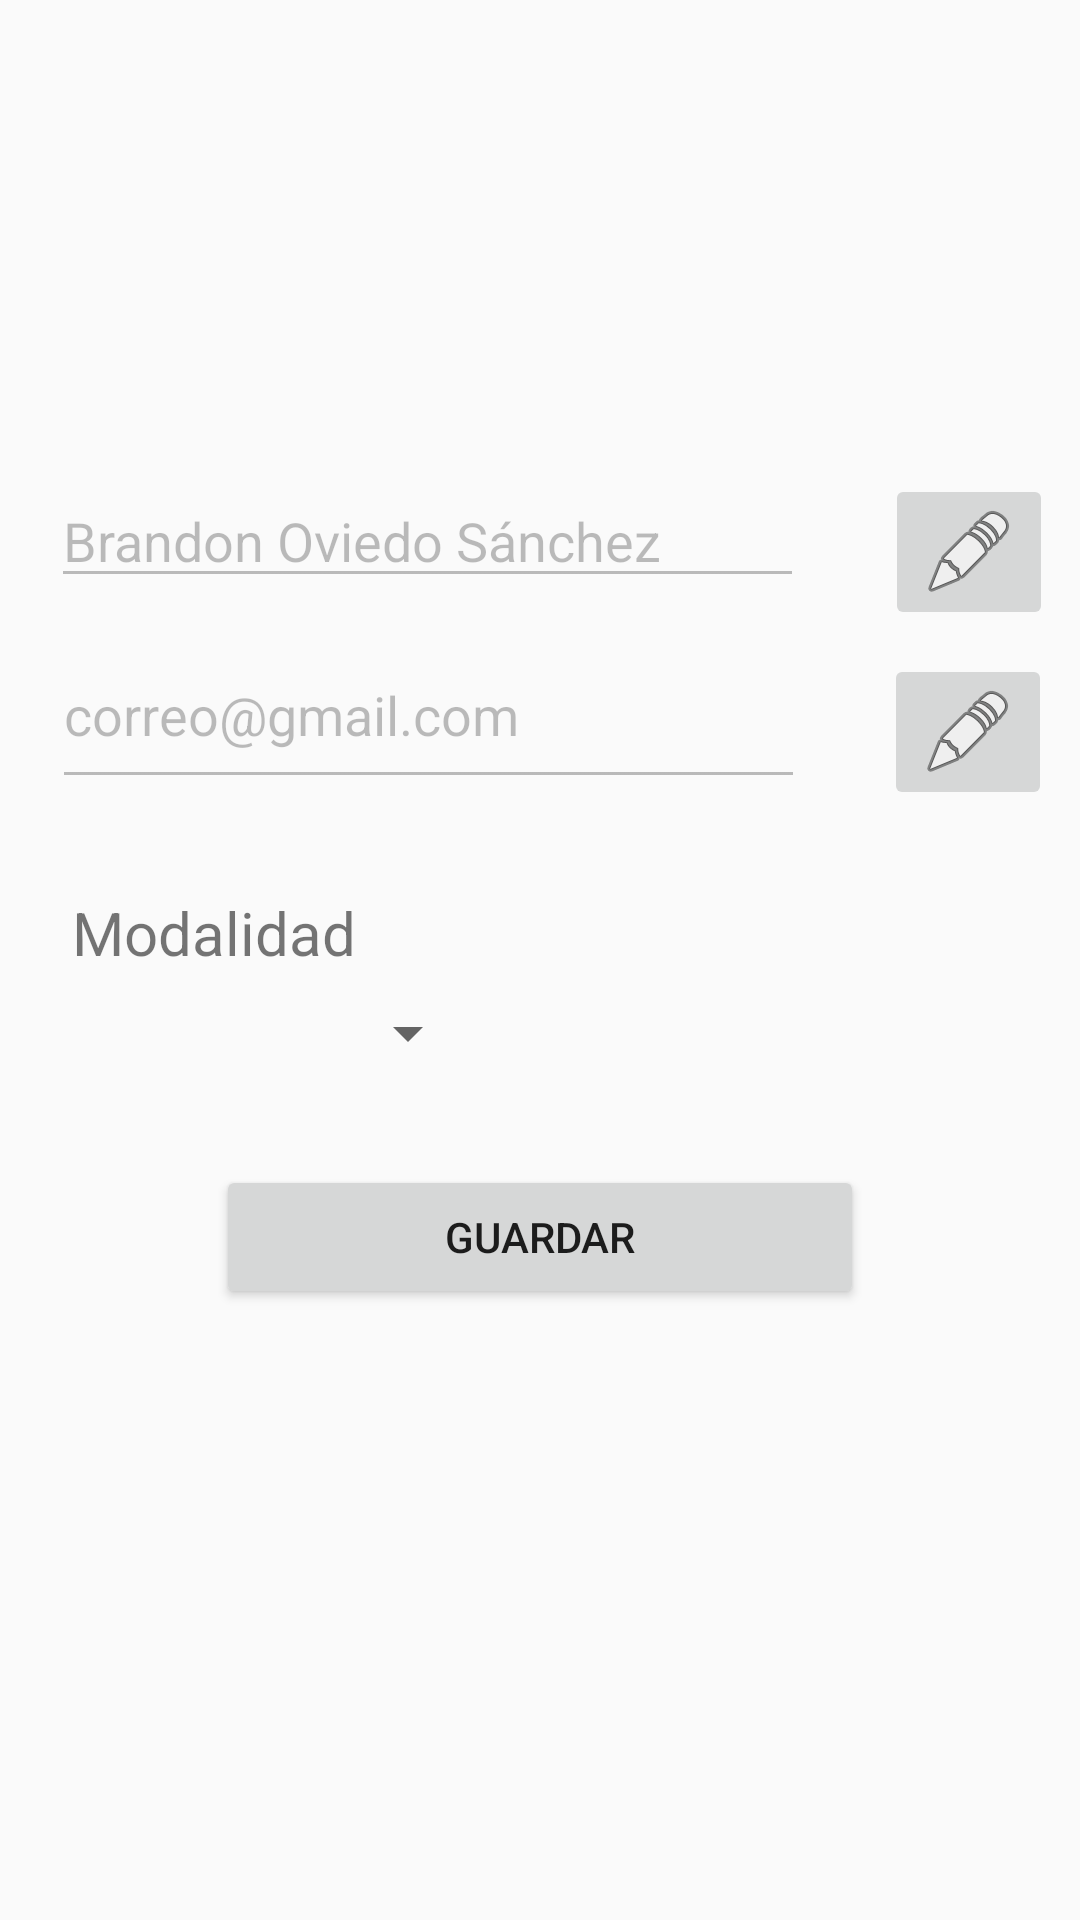

Point at icon controls on the screen. Image size 1080px×1920px, points as point (x, y).
edit: point (969, 552), point (968, 732)
